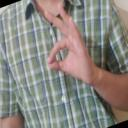hand: (37, 2, 95, 85)
